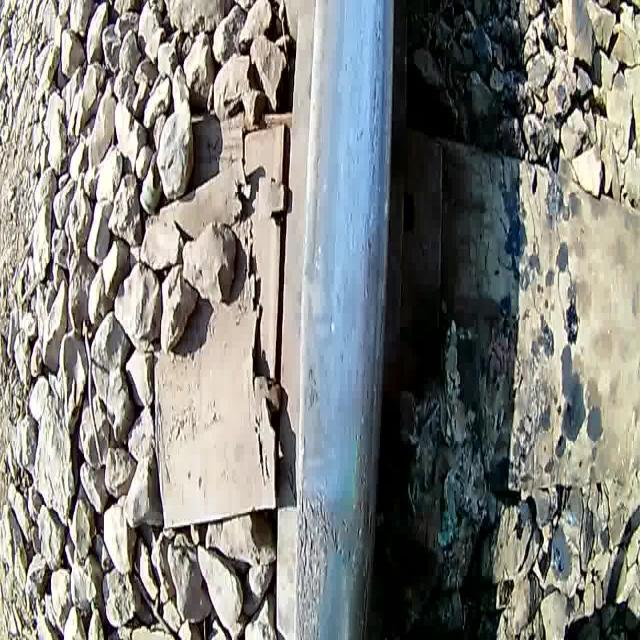Flakings: (292, 472, 335, 638)
Squats: (332, 482, 373, 592)
